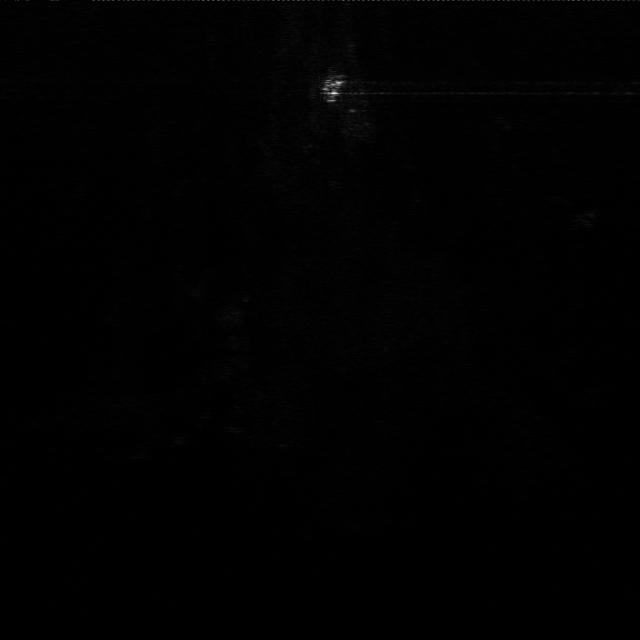rov: (318, 74, 348, 104)
